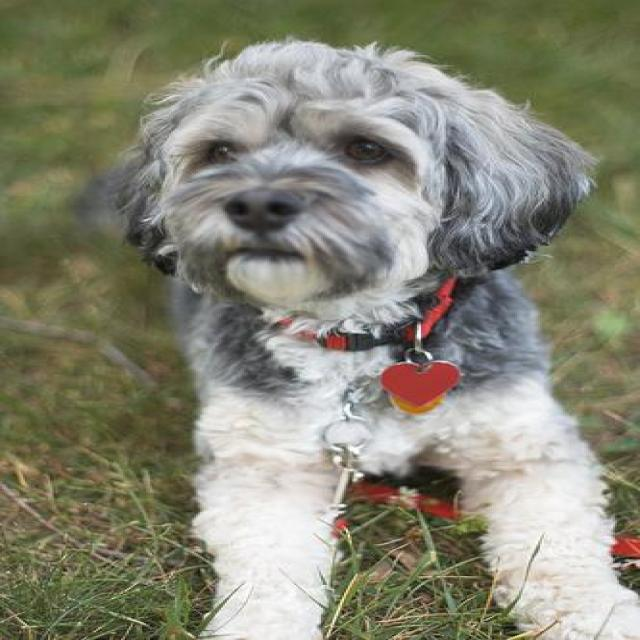dandie_dinmont: (110, 38, 634, 638)
